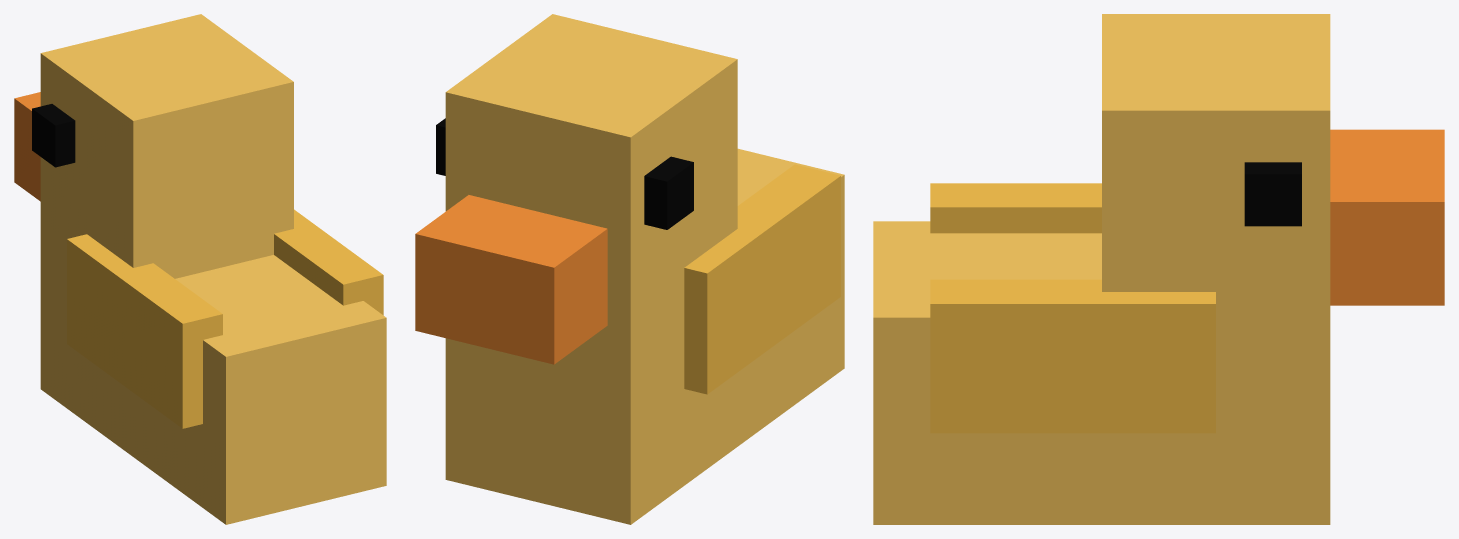
File: duck.fbx
3 renders of one model, left to right at view 1: azimuth 30°, elevation 25°; view 2: azimuth 150°, elevation 25°; view 3: azimuth 270°, elevation 25°, orthographic. The views are drawn at different scales.
Parts seen in each view (by area): view 1: body, head, WingL, WingR, eyeL, beak; view 2: head, body, beak, WingL, eyeL, eyeR; view 3: body, head, WingR, beak, WingL, eyeR.
Part boxes in pixels (x1=…): body: x1=40, y1=221, x2=386, y2=524; head: x1=40, y1=14, x2=293, y2=278; WingL: x1=67, y1=234, x2=222, y2=428; WingR: x1=274, y1=209, x2=383, y2=315; eyeL: x1=32, y1=104, x2=75, y2=167; beak: x1=14, y1=92, x2=40, y2=201; head: x1=445, y1=14, x2=737, y2=330; body: x1=445, y1=148, x2=844, y2=524; beak: x1=415, y1=195, x2=607, y2=364; WingL: x1=684, y1=164, x2=840, y2=394; eyeL: x1=644, y1=156, x2=693, y2=229; eyeR: x1=436, y1=118, x2=445, y2=175; body: x1=873, y1=221, x2=1330, y2=524; head: x1=1102, y1=14, x2=1330, y2=317; WingR: x1=930, y1=279, x2=1215, y2=433; beak: x1=1330, y1=129, x2=1444, y2=305; WingL: x1=930, y1=183, x2=1101, y2=233; eyeR: x1=1244, y1=162, x2=1301, y2=226.
Size of the model in its own units: 15.62 by 25 by 31.25.
1 material, 1 textured.
